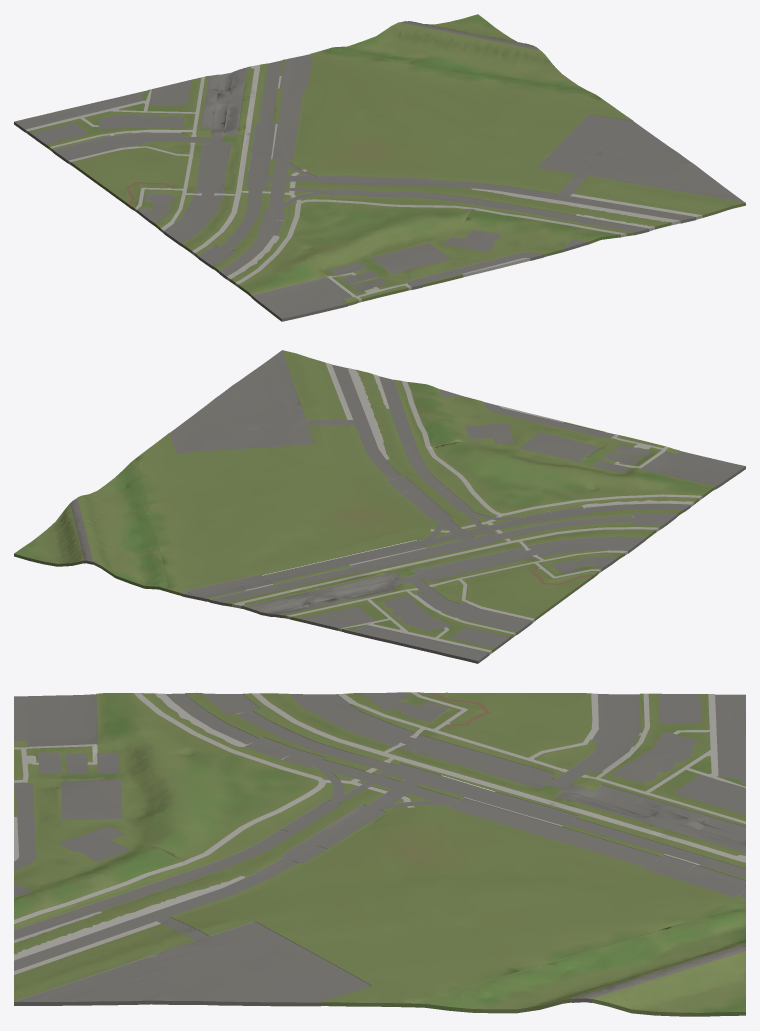
3 renders of one model, top to bottom at view 1: azimuth 30°, elevation 25°; view 2: azimuth 150°, elevation 25°; view 3: azimuth 270°, elevation 25°, orthographic. The views are drawn at different scales.
Visible parts, largest first — view 1: T-1--3.L1:utd:matte; view 2: T-1--3.L1:utd:matte; view 3: T-1--3.L1:utd:matte.
Boxes of the visible parts, x1=… form: T-1--3.L1:utd:matte: x1=14, y1=14, x2=745, y2=321; T-1--3.L1:utd:matte: x1=14, y1=350, x2=745, y2=663; T-1--3.L1:utd:matte: x1=14, y1=692, x2=745, y2=1016.
Size of the model in its own units: 256 by 8.23 by 256.
